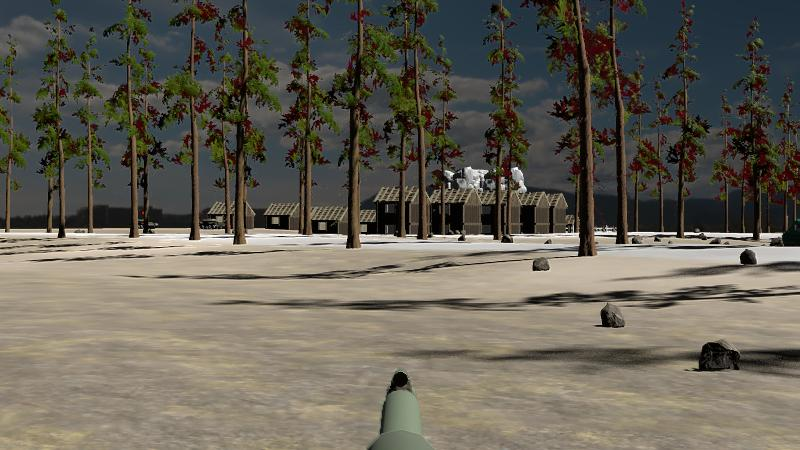House: (375, 187, 430, 235), (430, 186, 482, 235), (481, 185, 523, 236), (208, 198, 255, 230), (519, 191, 549, 233), (542, 192, 568, 232), (265, 201, 299, 231), (310, 207, 340, 233)
Tank: (700, 323, 800, 450), (199, 216, 234, 232)
car: (783, 216, 800, 248)
